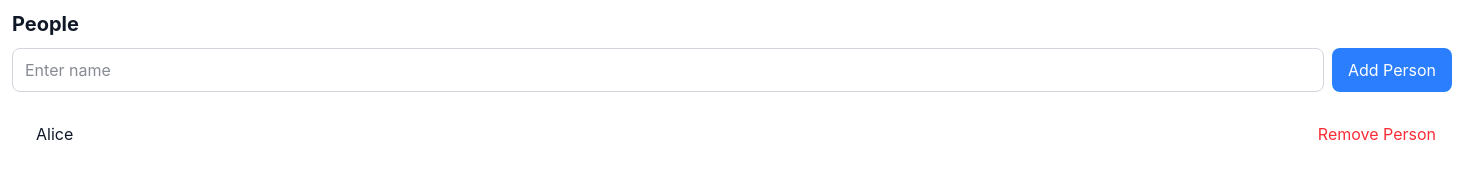
PeoplePanel › edits a person name inline (PEOPLE-03)
The image size is (1464, 172).
Click the text "Alice" at (55, 134), box [36, 124, 73, 144]
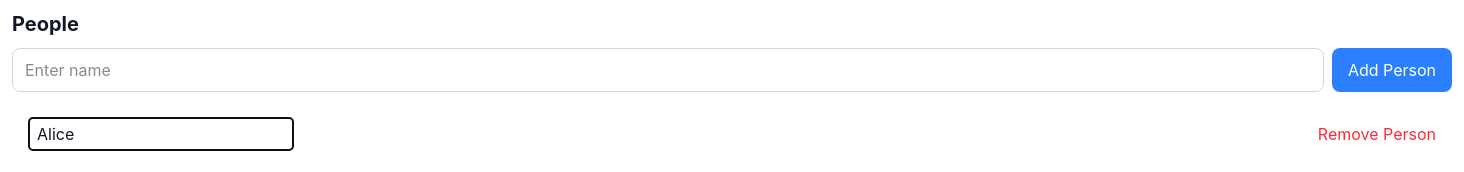
Replace the text in the field showing "Alice" with "Alicia" at (161, 134), box [28, 117, 294, 151]
Then press Enter
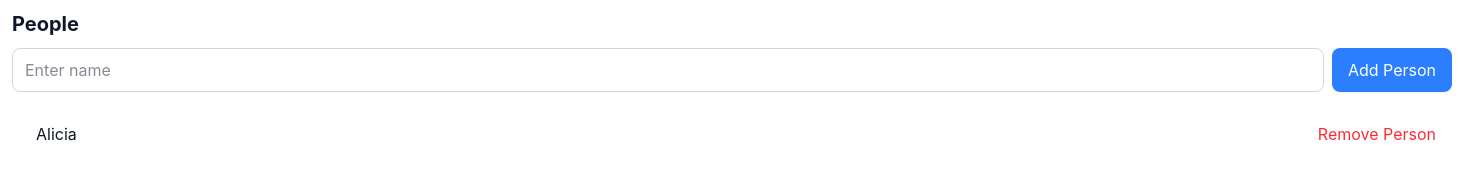
Expected: the text "Alice" is not shown
Expected: the text "Alicia" is shown, [36, 124, 77, 144]
